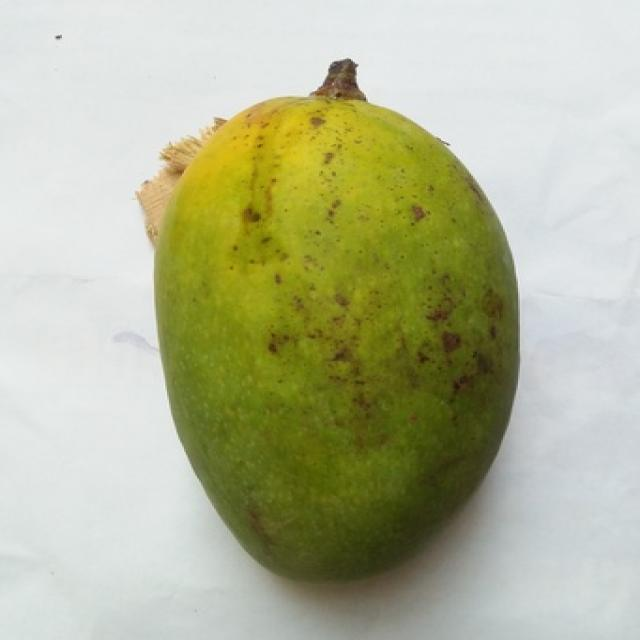Mango: (156, 94, 516, 578)
